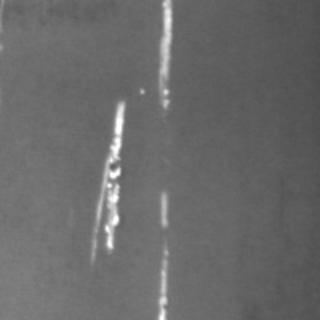scratches: (82, 96, 126, 252), (148, 0, 176, 110), (148, 189, 172, 317)
